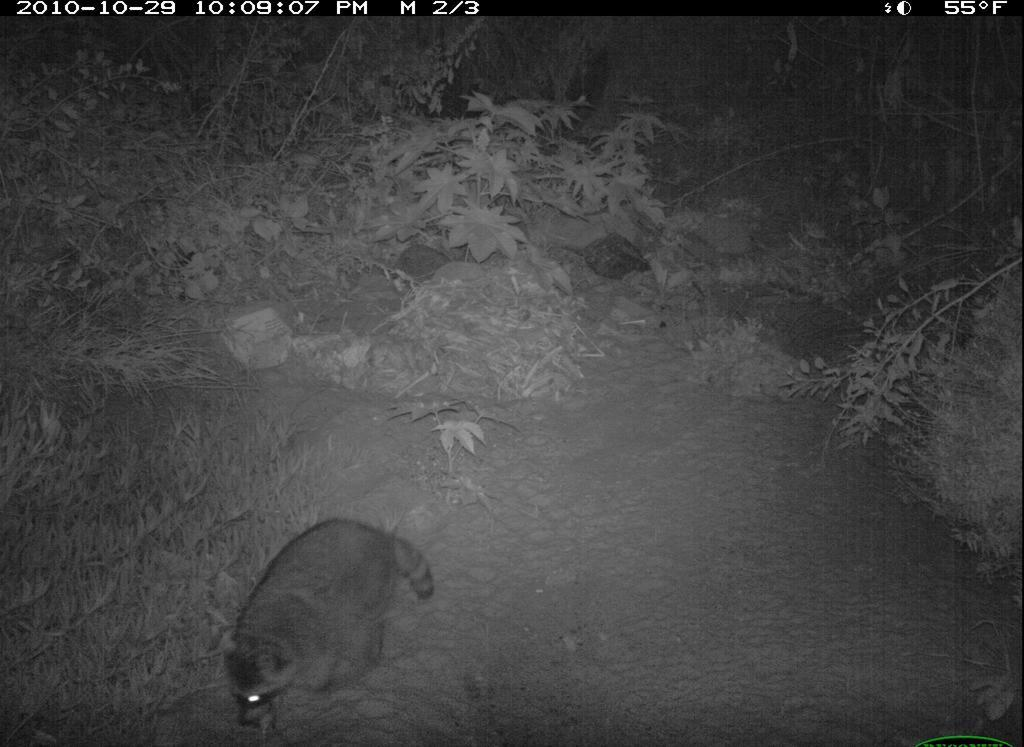raccoon: (221, 516, 440, 738)
